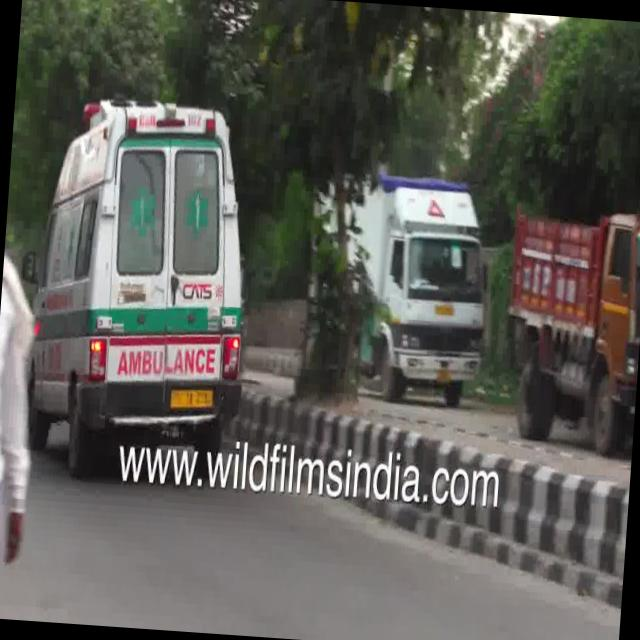ambulance: (25, 89, 264, 446)
